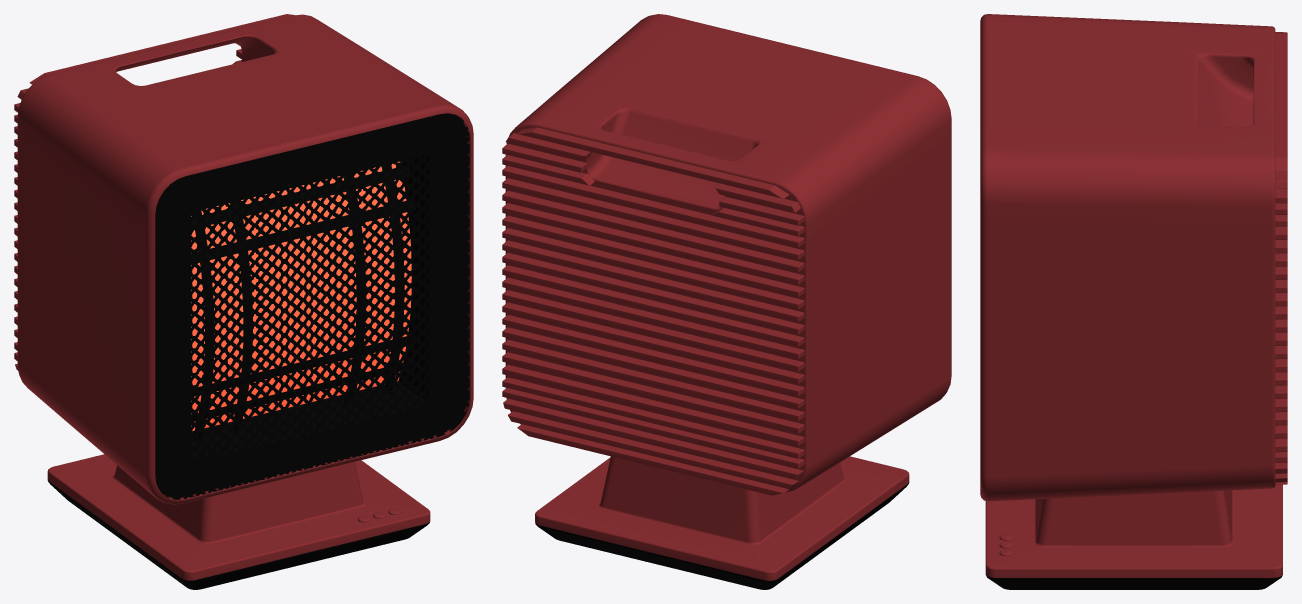
Rendered from electronic_32_04.001.fbx.
3 views of the same model, side by side, from view 1: azimuth 30°, elevation 25°; view 2: azimuth 150°, elevation 25°; view 3: azimuth 270°, elevation 25° (orthographic). The views are drawn at different scales.
Visible parts, largest first — view 1: electronic_32_04.001; view 2: electronic_32_04.001; view 3: electronic_32_04.001.
Part boxes in pixels (x1,y1,x2,y2): electronic_32_04.001: [14, 14, 473, 589]; electronic_32_04.001: [502, 14, 951, 589]; electronic_32_04.001: [980, 14, 1287, 589].
Size of the model in its own units: 23.47 by 29.73 by 18.36.
Materials: 1 (1 with a texture image).
